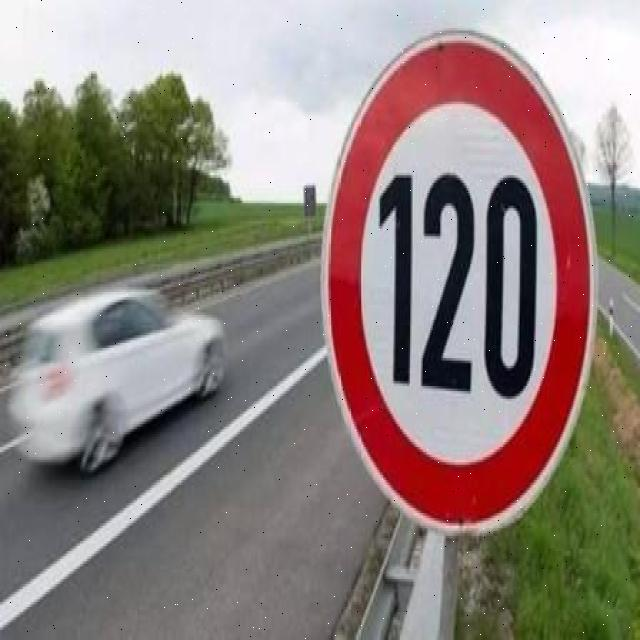speed limit 120: (322, 32, 598, 532)
